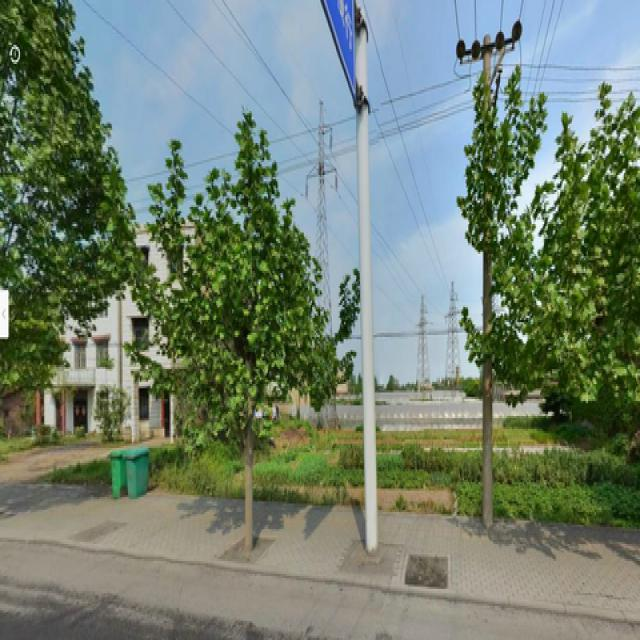meta: (139, 126, 341, 533)
